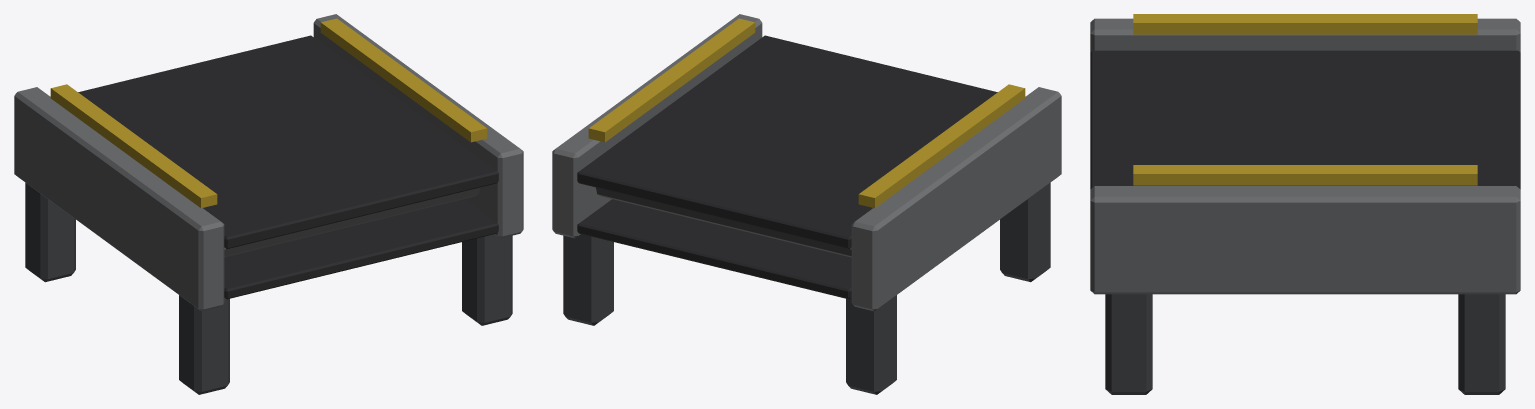
The model's file is belt_straight.glb.
3 renders of one model, left to right at view 1: azimuth 30°, elevation 25°; view 2: azimuth 150°, elevation 25°; view 3: azimuth 270°, elevation 25°, orthographic. The views are drawn at different scales.
Visible parts, largest first — view 1: belt_straight_BeltRubber, belt_straight_WeldedSteel, belt_straight_CastIron, belt_straight_HazardYellow, belt_straight_OiledSteel; view 2: belt_straight_BeltRubber, belt_straight_WeldedSteel, belt_straight_CastIron, belt_straight_HazardYellow, belt_straight_OiledSteel; view 3: belt_straight_WeldedSteel, belt_straight_BeltRubber, belt_straight_HazardYellow, belt_straight_CastIron.
Part boxes in pixels (x1,y1,x2,y2): belt_straight_BeltRubber: [78, 35, 498, 299]; belt_straight_WeldedSteel: [14, 14, 523, 311]; belt_straight_CastIron: [25, 182, 512, 394]; belt_straight_HazardYellow: [50, 18, 487, 208]; belt_straight_OiledSteel: [224, 187, 479, 257]; belt_straight_BeltRubber: [577, 35, 997, 299]; belt_straight_WeldedSteel: [552, 14, 1061, 311]; belt_straight_CastIron: [563, 182, 1050, 394]; belt_straight_HazardYellow: [588, 18, 1025, 208]; belt_straight_OiledSteel: [596, 187, 851, 257]; belt_straight_WeldedSteel: [1090, 18, 1520, 294]; belt_straight_BeltRubber: [1090, 50, 1520, 189]; belt_straight_HazardYellow: [1133, 14, 1477, 185]; belt_straight_CastIron: [1105, 294, 1505, 394].
Bounding box in the file's own units: 2 × 1.1 × 2.
